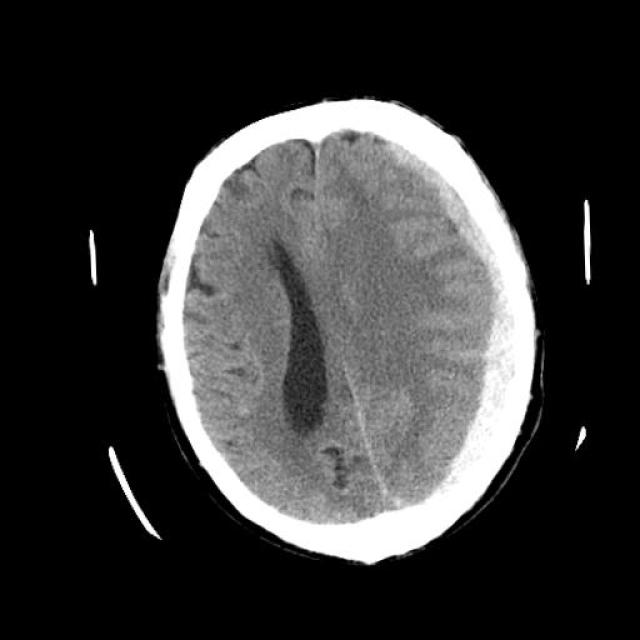Subdural: (385, 126, 544, 502)
